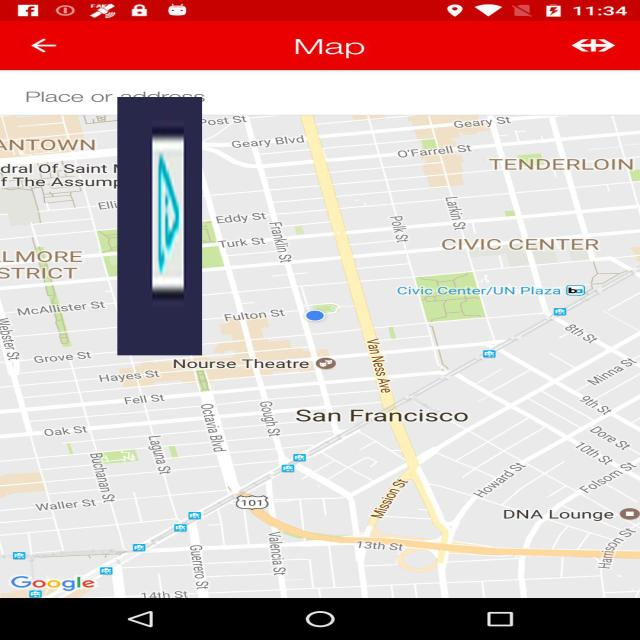sneaking: (117, 97, 202, 355)
